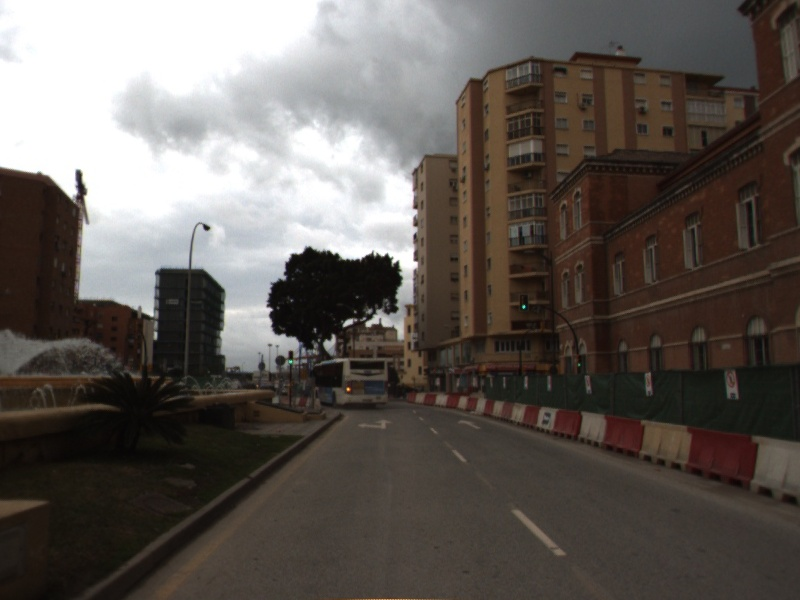STRAIGHT: (456, 417, 483, 431)
STRAIGHT_LEFT: (356, 418, 394, 431)
